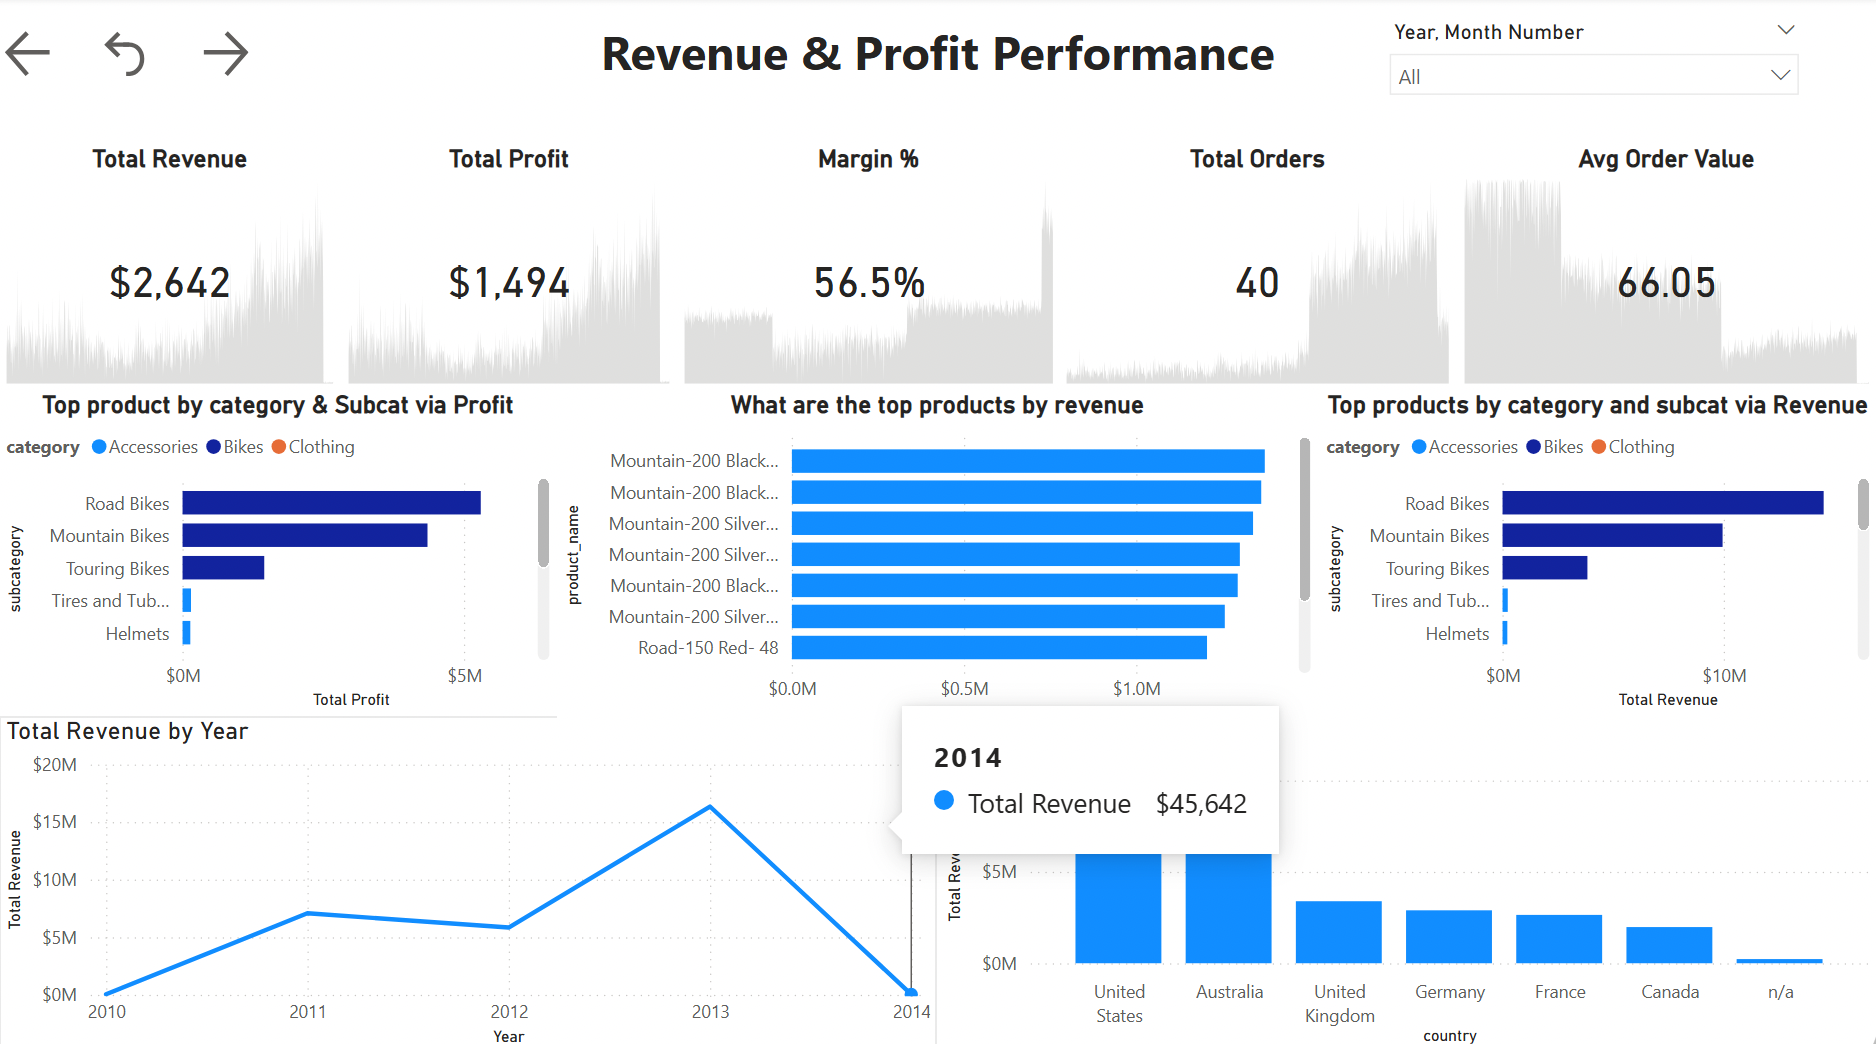

Layout of this report page (visuals, bound fields, positions):
{"tool":"powerbi","page":{"name":"Sales Overview","canvas":[1280,720],"ordinal":2},"visuals":[{"type":"actionButton","title":"Home Page","box":[65.6,19.3,50.2,40.5],"z":0,"group":"g1"},{"type":"lineChart","fields":{"Y":["_measures.total_revenue"],"Category":["date_dim.Year"]},"box":[0,490.4,640,229.1],"z":0},{"type":"actionButton","title":"Next Page","box":[133.2,19.3,57.9,40.5],"z":1000,"group":"g1"},{"type":"barChart","title":"Top products by category and subcat via Revenue","fields":{"Category":["gold dim_products.subcategory"],"Y":["_measures.total_revenue"],"Series":["gold dim_products.category"]},"box":[899.7,268.4,380.3,222],"z":1000},{"type":"actionButton","title":"Previous Page","box":[0,19.3,65.6,40.5],"z":2000,"group":"g1"},{"type":"barChart","title":"Top product by category & Subcat via Profit","fields":{"Y":["_measures.total_profit"],"Series":["gold dim_products.category"],"Category":["gold dim_products.subcategory"]},"box":[0,268.4,380.3,222],"z":2000},{"type":"barChart","title":"What are the top products by revenue","fields":{"Category":["gold dim_products.product_name"],"Y":["_measures.total_revenue"]},"box":[380.6,268.9,518.8,231],"z":3000},{"type":"columnChart","fields":{"Y":["_measures.total_revenue"],"Category":["gold dim_customers.country"]},"box":[641,501.2,639,217.7],"z":4000},{"type":"textbox","box":[0,11.6,1280,94.6],"z":5000},{"type":"kpi","title":"Total Revenue","fields":{"Indicator":["_measures.total_revenue"],"TrendLine":["date_dim.Date.Variation.Date Hierarchy.Year"]},"box":[0,100.4,232.9,168.5],"z":6000},{"type":"kpi","title":"Total Profit","fields":{"Indicator":["_measures.total_profit"],"TrendLine":["date_dim.Date.Variation.Date Hierarchy.Year"]},"box":[232.9,100.4,229.1,168.5],"z":7000},{"type":"kpi","title":"Margin % ","fields":{"Indicator":["_measures.margin_percentage"],"TrendLine":["date_dim.Date"]},"box":[462,100.4,261.3,168.5],"z":8000},{"type":"kpi","title":"Total Orders","fields":{"Indicator":["_measures.total_orders"],"TrendLine":["date_dim.Date.Variation.Date Hierarchy.Year"]},"box":[723.3,100.4,270.8,168.5],"z":9000},{"type":"kpi","title":"Avg Order Value","fields":{"Indicator":["_measures.average_order_value"],"TrendLine":["date_dim.Date.Variation.Date Hierarchy.Year"]},"box":[994.1,100.4,285.9,168.5],"z":10000},{"type":"slicer","fields":{"Values":["date_dim.Year","date_dim.Month Number"]},"box":[938.3,11.6,299.2,73.4],"z":11000},{"type":"group","id":"g1","title":"Page Navigators","box":[0,19.3,191.1,40.5],"z":13000}]}

Visuals, with their boxes in screenshot pixels (x1, y1, x2, y2), scaled from the page's 1280x720 canvas onto the 1876x1044 screenshot:
"Home Page" actionButton: 96, 28, 170, 87
lineChart - _measures.total_revenue x date_dim.Year: 0, 711, 938, 1043
"Next Page" actionButton: 195, 28, 280, 87
"Top products by category and subcat via Revenue" barChart: 1319, 389, 1875, 711
"Previous Page" actionButton: 0, 28, 96, 87
"Top product by category & Subcat via Profit" barChart: 0, 389, 557, 711
"What are the top products by revenue" barChart: 558, 390, 1318, 725
columnChart - _measures.total_revenue x gold dim_customers.country: 939, 727, 1875, 1042
textbox: 0, 17, 1875, 154
"Total Revenue" kpi: 0, 146, 341, 390
"Total Profit" kpi: 341, 146, 677, 390
"Margin % " kpi: 677, 146, 1060, 390
"Total Orders" kpi: 1060, 146, 1457, 390
"Avg Order Value" kpi: 1457, 146, 1875, 390
slicer - date_dim.Year x date_dim.Month Number: 1375, 17, 1814, 123
"Page Navigators" group: 0, 28, 280, 87
